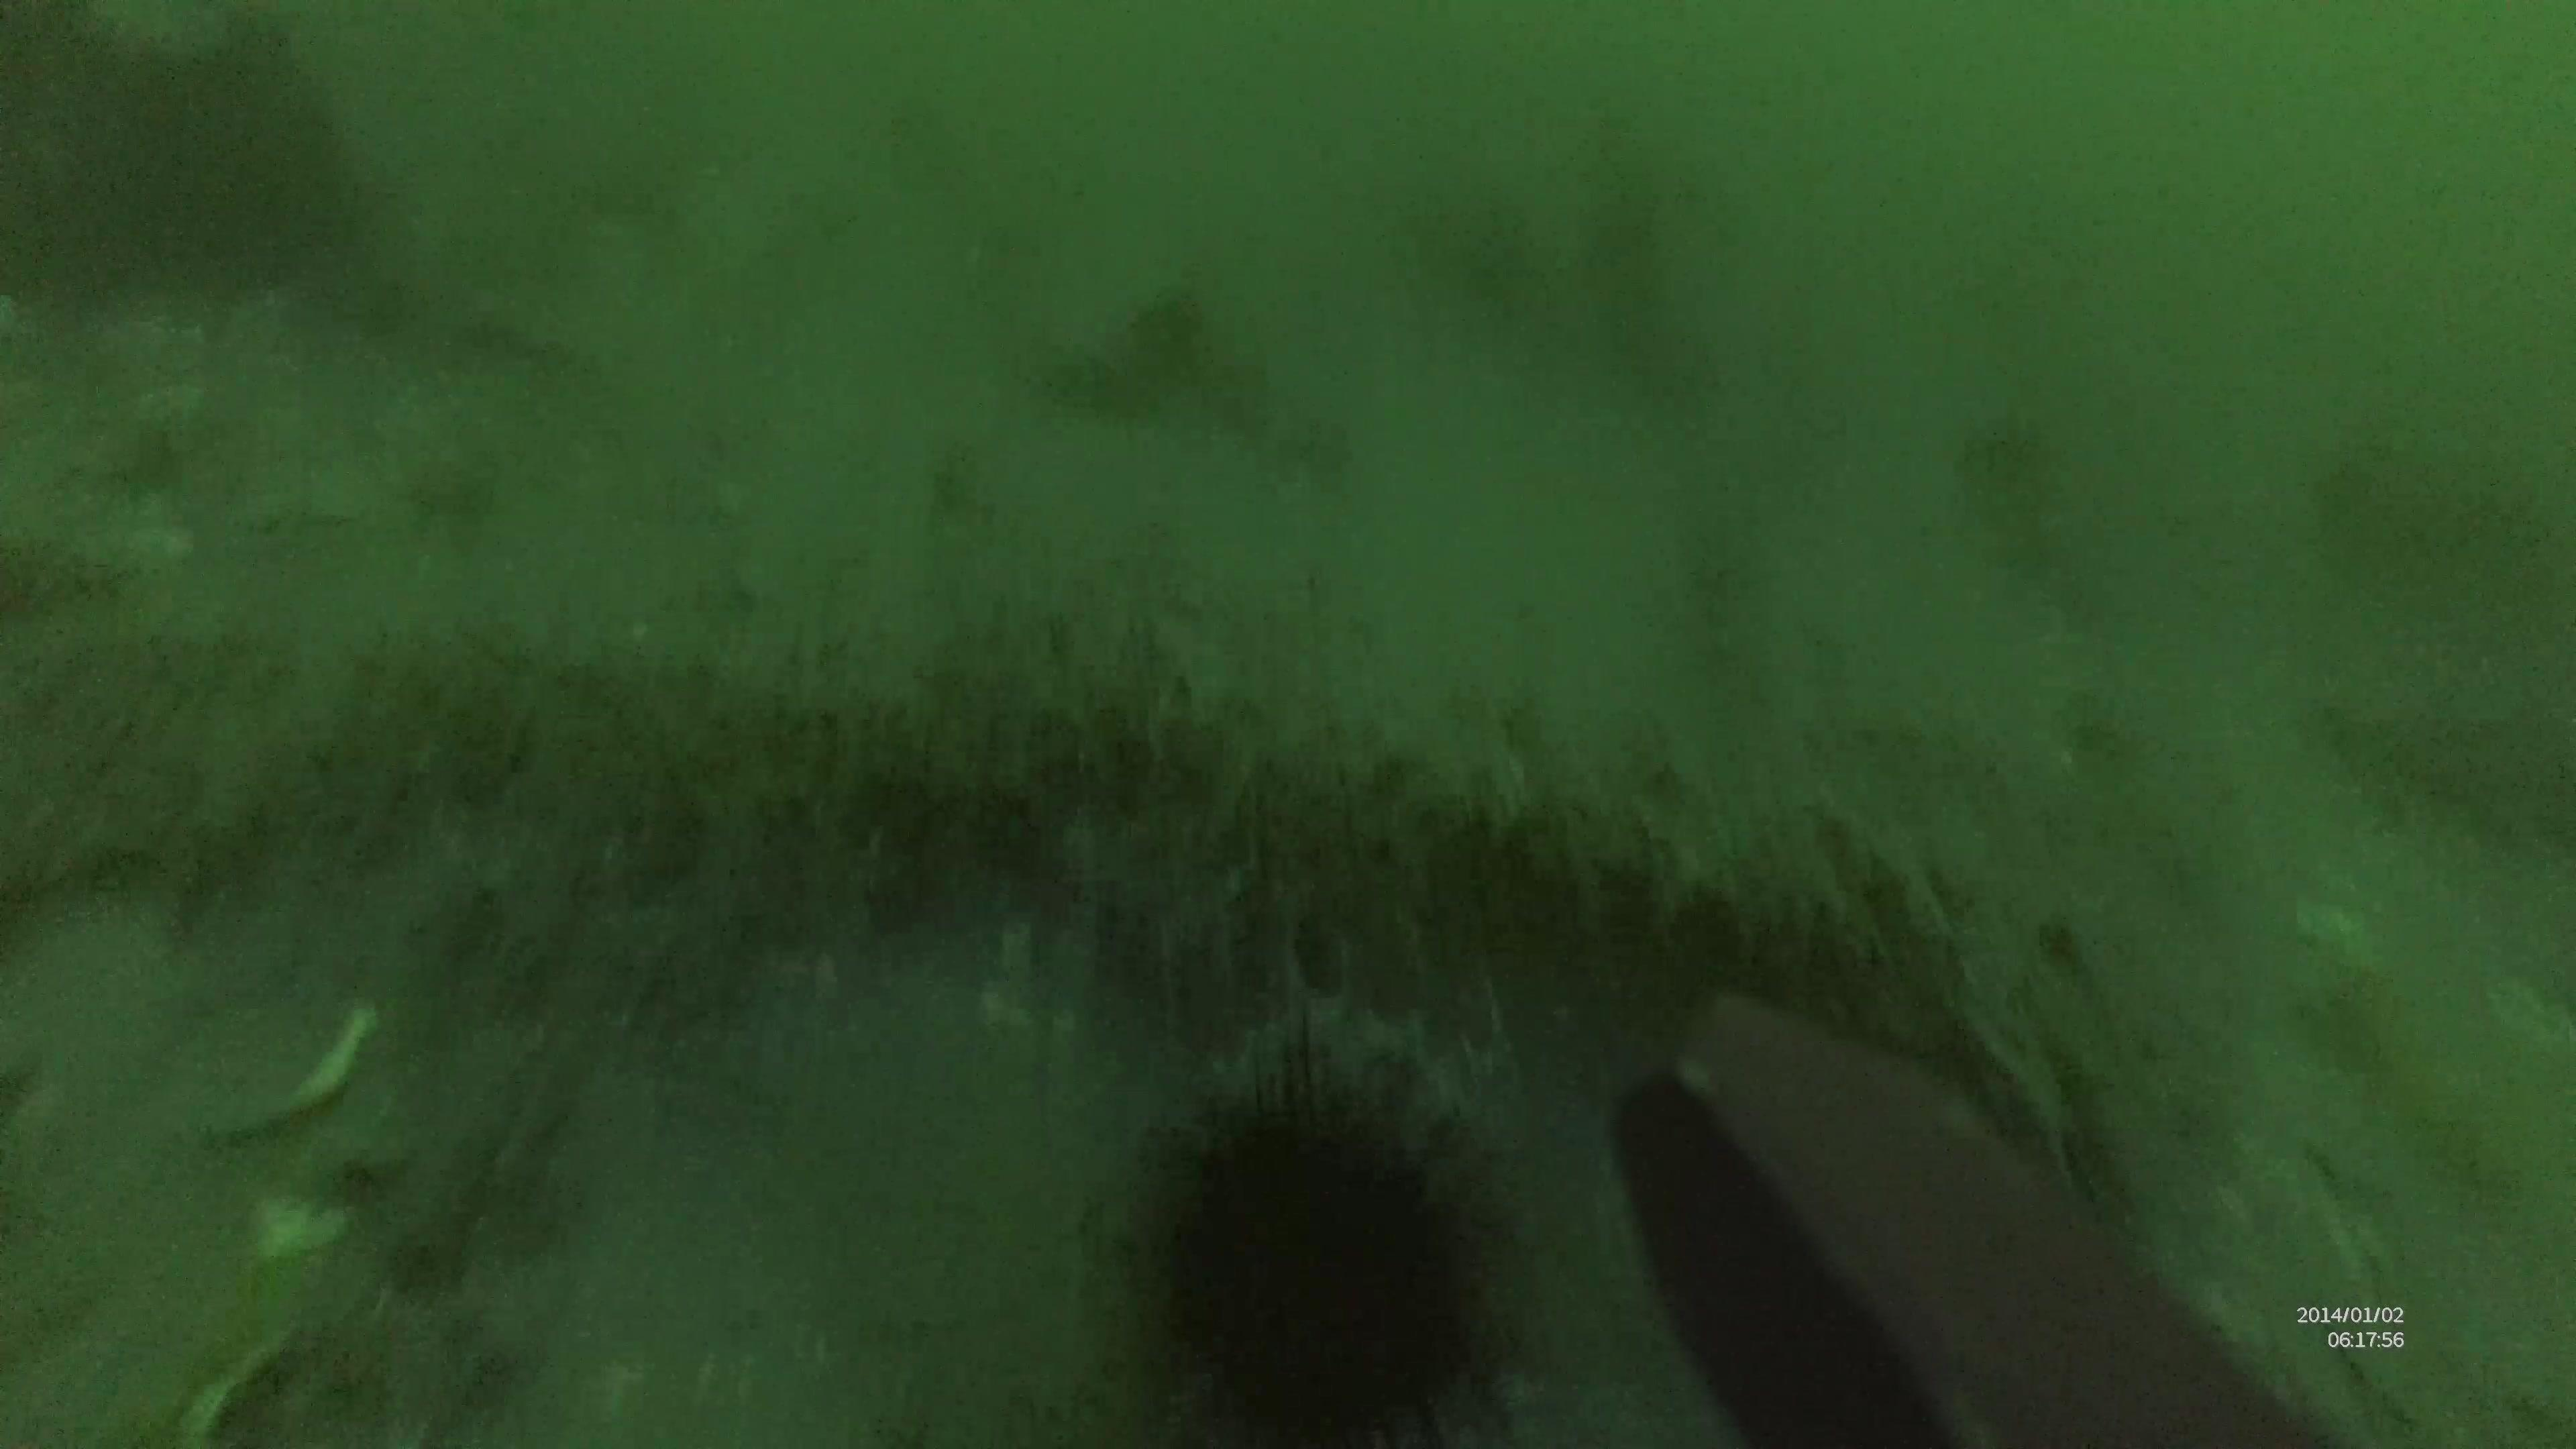echinus: (1116, 1030, 1513, 1449)
